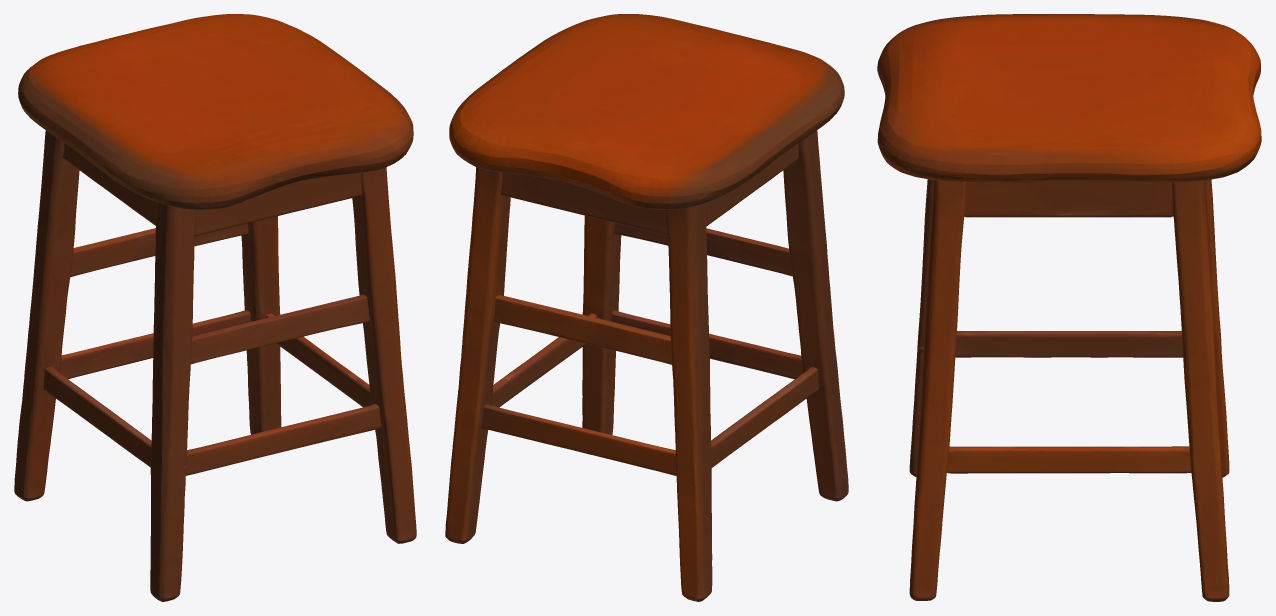
File: bar_stool_34.obj
3 views of the same model, side by side, from view 1: azimuth 30°, elevation 25°; view 2: azimuth 150°, elevation 25°; view 3: azimuth 270°, elevation 25° (orthographic). The views are drawn at different scales.
Bounding box in the file's own units: 0.5348 × 0.775 × 0.5807.
1 material, 1 textured.
